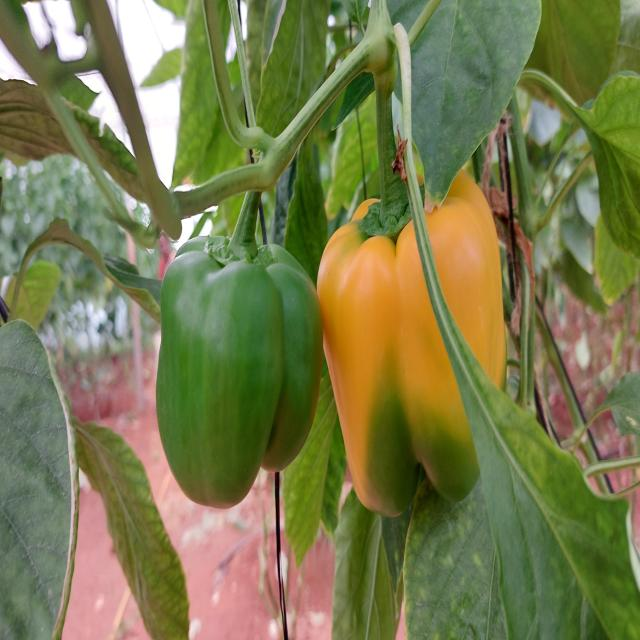Green--Not-ready-to-harvest: (315, 168, 515, 518), (152, 243, 314, 519)
